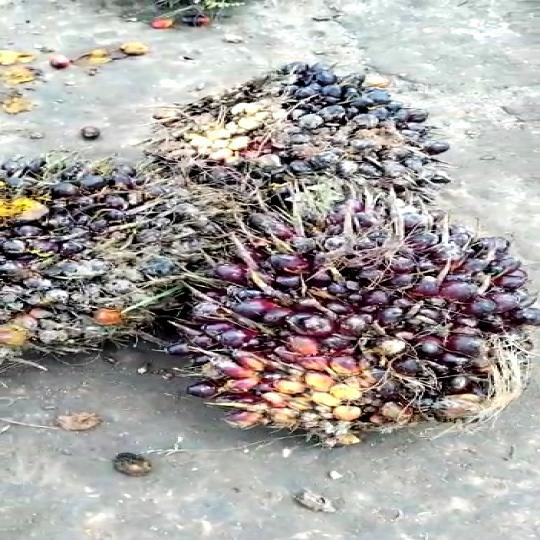kurang masak: (190, 207, 540, 449), (0, 150, 205, 364), (173, 66, 444, 210)
